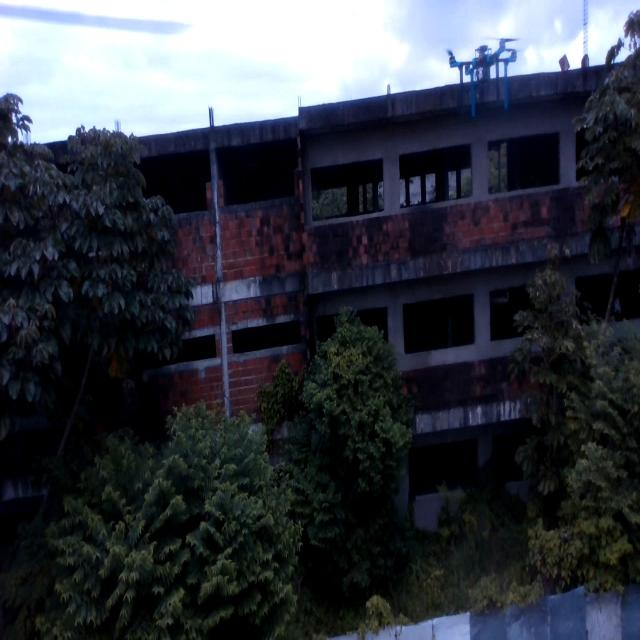-uav-: (447, 37, 523, 117)
